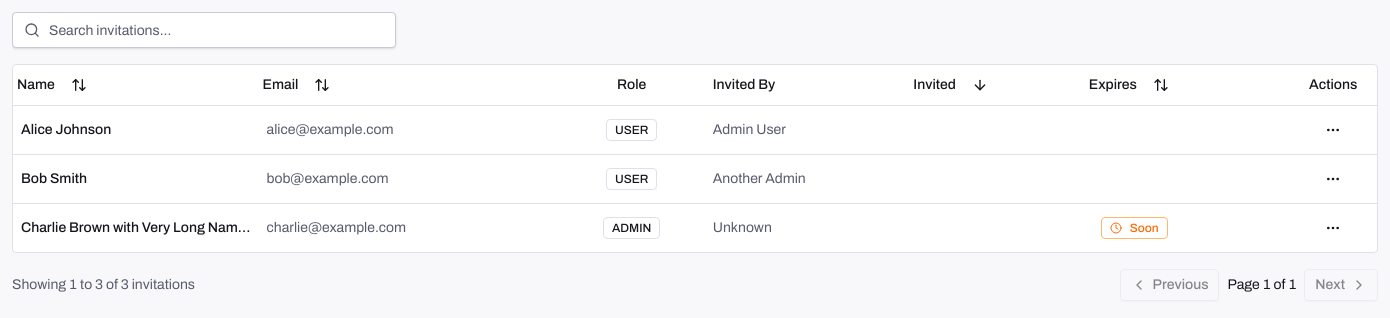
components/admin/invitation-table › resend invitation action › should show loading state while resending
# Resend invitation
What coordinates should you click on to do the following:
click the button named "open menu" in the row of "Alice Johnson"
I would click on:
 (1333, 130)
Its box is 1317,114 -> 1349,146.
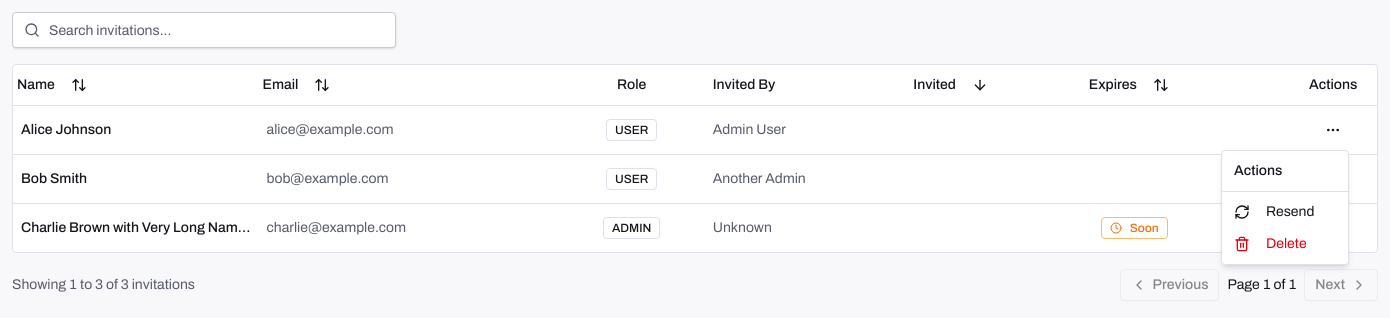
What coordinates should you click on to do the following:
click the menu item "Resend"
I would click on:
 (1274, 212)
Its box is 1234,204 -> 1314,220.
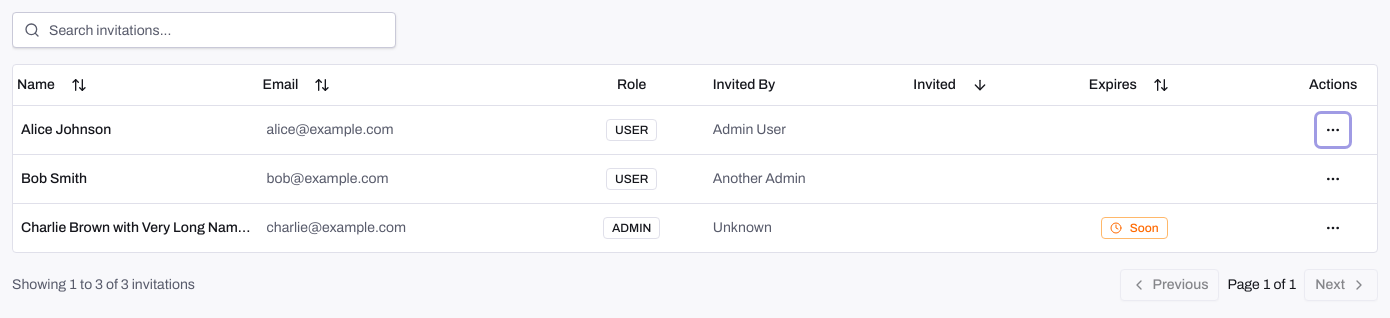
What coordinates should you click on to do the following:
click the button named "open menu" in the row of "Alice Johnson"
I would click on:
 (1333, 130)
Its box is 1317,114 -> 1349,146.
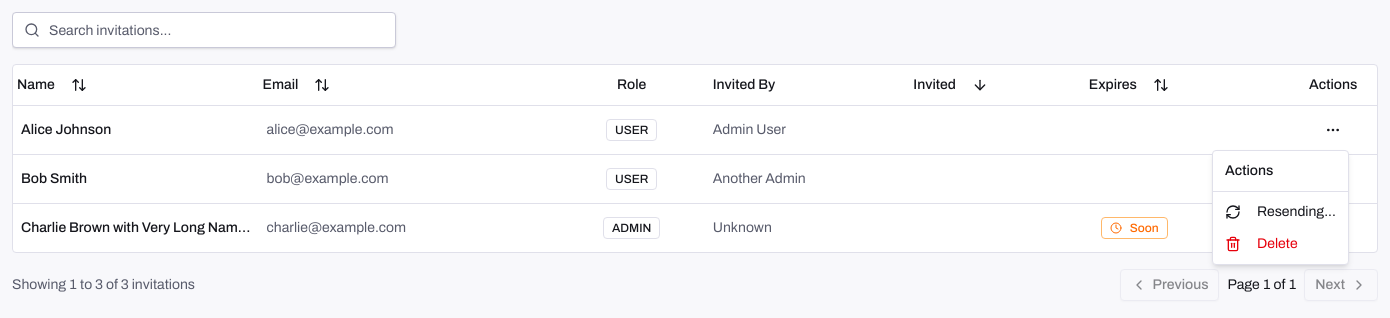
Now the menu item "Resending..." is shown, box 1225,204 -> 1336,220
